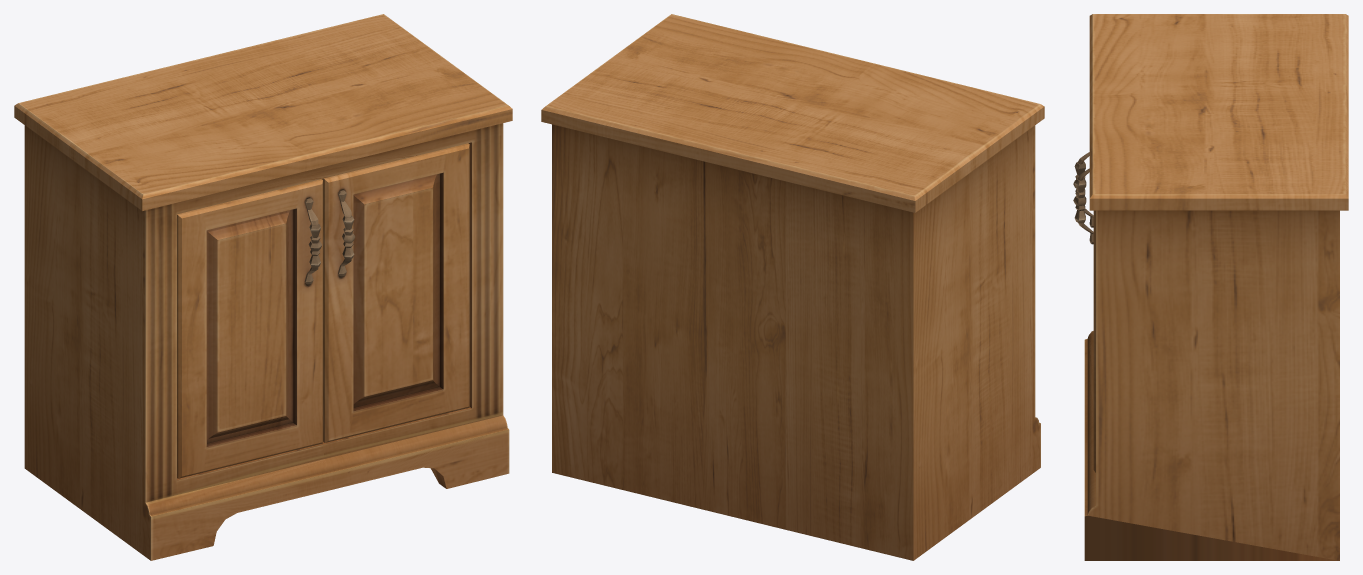
The model's file is cabinet_2door.fbx.
The picture shows the model from 3 angles, left to right: view 1: azimuth 30°, elevation 25°; view 2: azimuth 150°, elevation 25°; view 3: azimuth 270°, elevation 25°; orthographic projection.
Parts seen in each view (by area): view 1: cabinet, door_r, door_l; view 2: cabinet; view 3: cabinet, door_r.
Boxes of the visible parts, left/top/right/bottom form: cabinet: left=14, top=14, right=512, bottom=560; door_r: left=322, top=143, right=469, bottom=442; door_l: left=177, top=179, right=322, bottom=478; cabinet: left=541, top=14, right=1044, bottom=560; cabinet: left=1084, top=14, right=1348, bottom=560; door_r: left=1073, top=168, right=1095, bottom=472.
Bounding box in the file's own units: 1.47 × 1.39 × 0.938.
